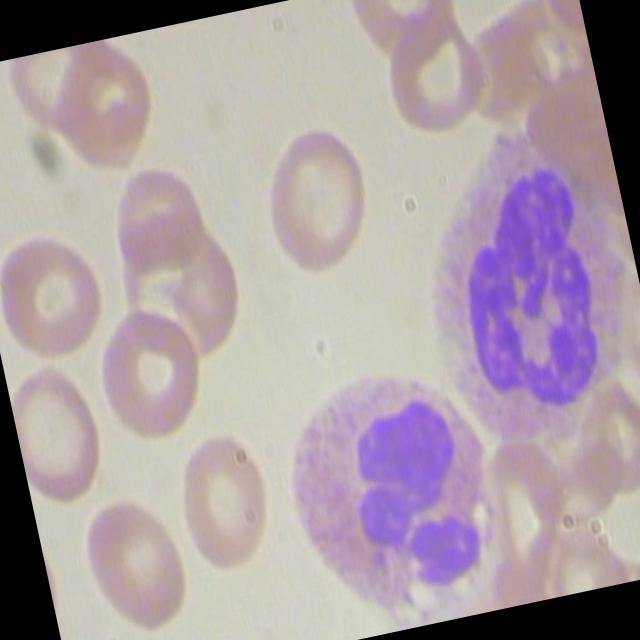RBC: (156, 406, 304, 584), (244, 113, 390, 291), (70, 473, 217, 640), (4, 348, 120, 520), (91, 293, 221, 442), (91, 140, 221, 288), (41, 31, 170, 180), (367, 0, 497, 146), (0, 214, 115, 367)
WBC: (390, 102, 640, 475), (251, 345, 519, 640)
